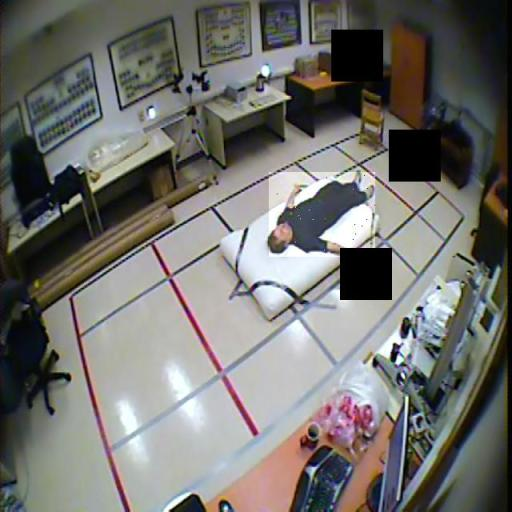Fall: (269, 172, 375, 257)
